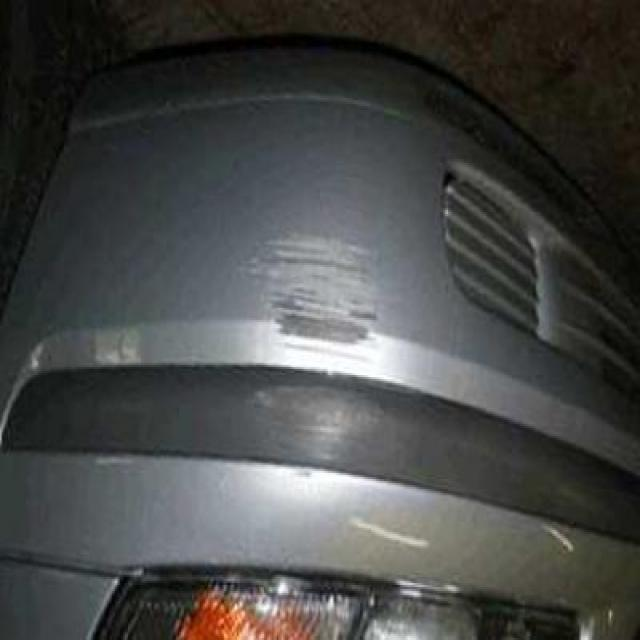scratch: (254, 220, 386, 347), (225, 368, 378, 458)
